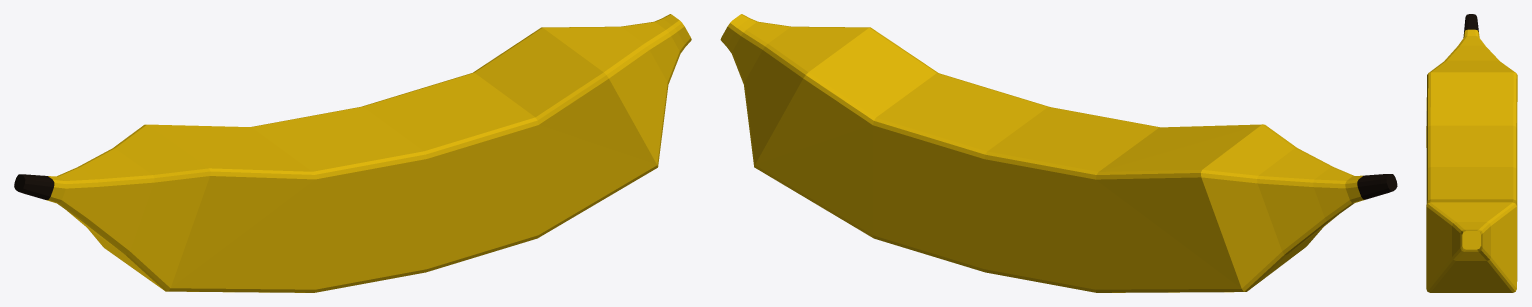
File: banana.dae
3 renders of one model, left to right at view 1: azimuth 30°, elevation 25°; view 2: azimuth 150°, elevation 25°; view 3: azimuth 270°, elevation 25°, orthographic. The views are drawn at different scales.
Visible parts, largest first — view 1: banana; view 2: banana; view 3: banana.
Part boxes in pixels (x1,y1,x2,y2): banana: [14, 14, 691, 292]; banana: [720, 14, 1397, 292]; banana: [1426, 14, 1517, 292].
Size of the model in its own units: 5.79 by 1.37 by 1.01.
